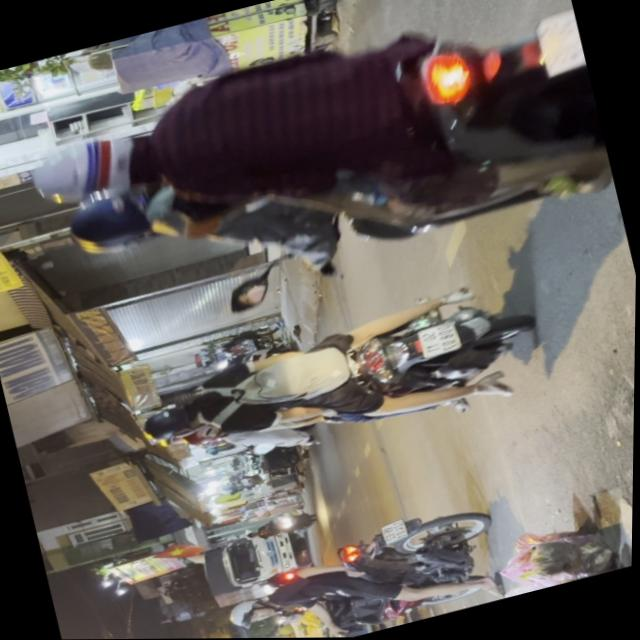helmet: (19, 119, 162, 218), (59, 179, 173, 261), (136, 394, 209, 445), (225, 594, 278, 632)
licenseplate: (10, 0, 620, 340), (121, 269, 552, 491), (210, 496, 509, 639)
nohelmet: (529, 7, 587, 76), (416, 320, 460, 359), (380, 520, 408, 545)
